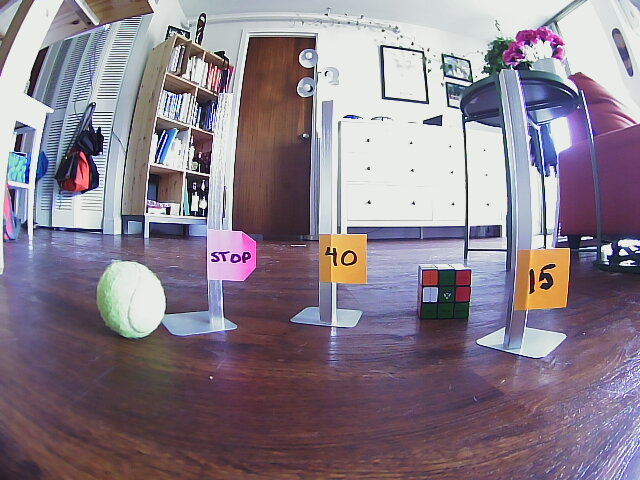15: (512, 245, 571, 312)
40: (318, 233, 367, 285)
ball: (96, 261, 168, 342)
cube: (413, 262, 474, 325)
stop: (205, 227, 259, 284)
